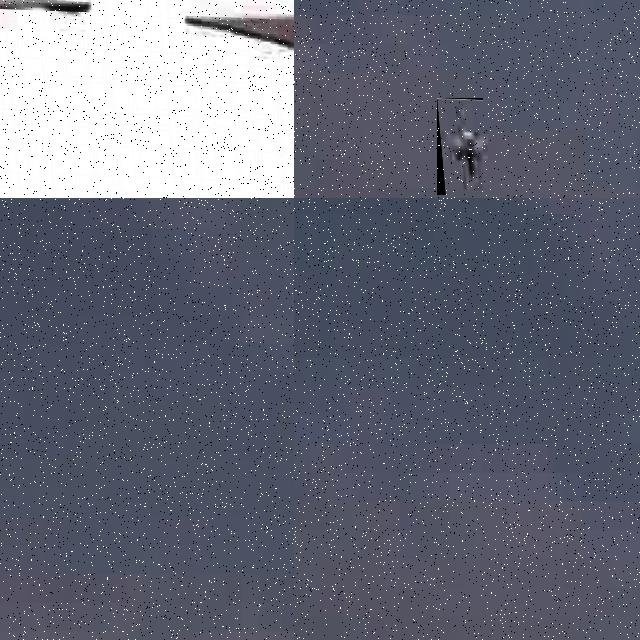0: (437, 98, 483, 195)
drone: (0, 0, 294, 198)
